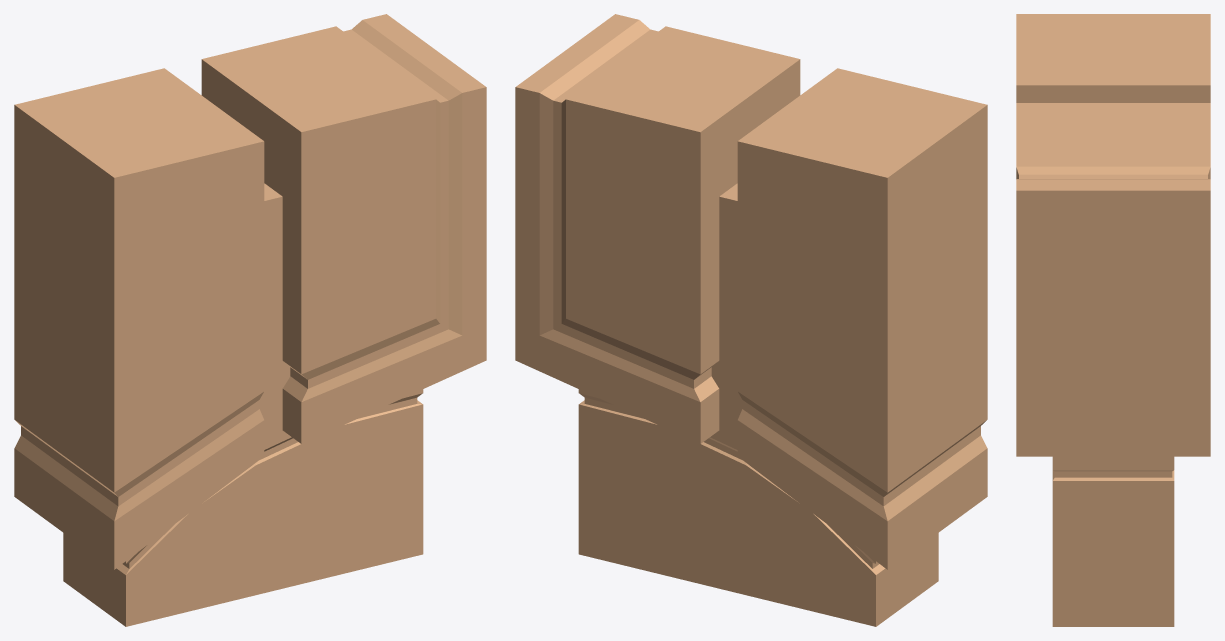
Rendered from monolyth.fbx.
3 renders of one model, left to right at view 1: azimuth 30°, elevation 25°; view 2: azimuth 150°, elevation 25°; view 3: azimuth 270°, elevation 25°, orthographic. The views are drawn at different scales.
Parts seen in each view (by area): view 1: Cube.008, Cube.007, Cube.009; view 2: Cube.008, Cube.007, Cube.009; view 3: Cube.007, Cube.009, Cube.008.
Boxes of the visible parts, x1,y1,x2,y2 form: Cube.008: (14, 68, 264, 569); Cube.007: (201, 14, 486, 443); Cube.009: (63, 183, 423, 626); Cube.008: (737, 68, 987, 569); Cube.007: (515, 14, 800, 443); Cube.009: (578, 183, 938, 626); Cube.007: (1016, 103, 1210, 456); Cube.009: (1052, 456, 1174, 626); Cube.008: (1016, 14, 1210, 102).
Bounding box in the file's own units: 2992 × 3612 × 1391.
